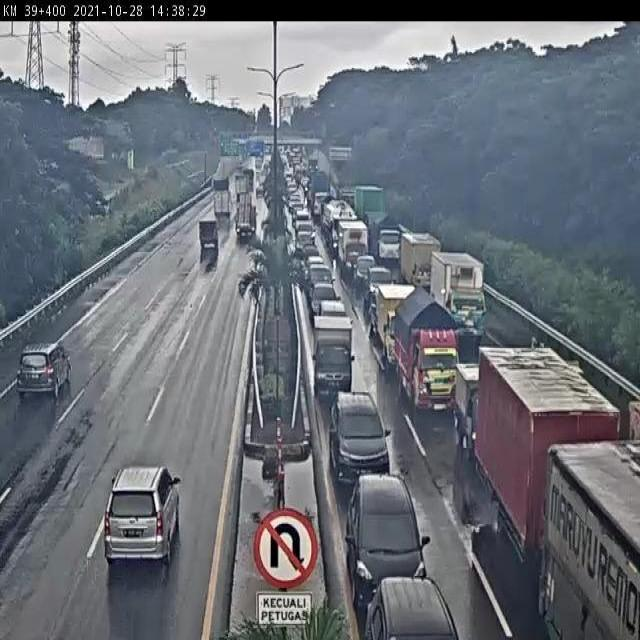big truck: (491, 365, 607, 567), (551, 446, 640, 614), (442, 271, 495, 353), (404, 241, 438, 295), (372, 230, 405, 270), (359, 199, 388, 241), (313, 176, 332, 224), (524, 405, 529, 412), (202, 236, 203, 245)
car: (102, 462, 186, 590), (359, 489, 432, 594), (330, 400, 383, 479), (12, 339, 72, 408), (316, 327, 355, 392), (372, 595, 447, 628), (461, 373, 489, 460), (370, 272, 392, 313), (313, 288, 339, 316), (195, 213, 217, 240), (306, 273, 329, 295), (357, 266, 373, 294), (300, 243, 318, 264), (294, 215, 310, 236), (290, 197, 305, 215), (284, 177, 296, 195), (288, 188, 300, 201), (290, 174, 291, 178)
small truck: (406, 300, 465, 423), (383, 301, 421, 392), (325, 205, 351, 256), (347, 228, 371, 281), (238, 191, 261, 232), (215, 180, 238, 215), (256, 165, 272, 192), (233, 163, 249, 188), (209, 167, 227, 189), (225, 178, 228, 182)
